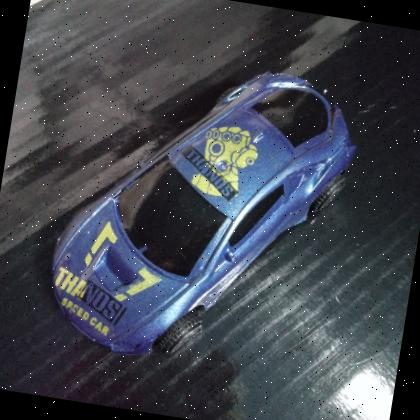Car: (30, 31, 375, 394)
